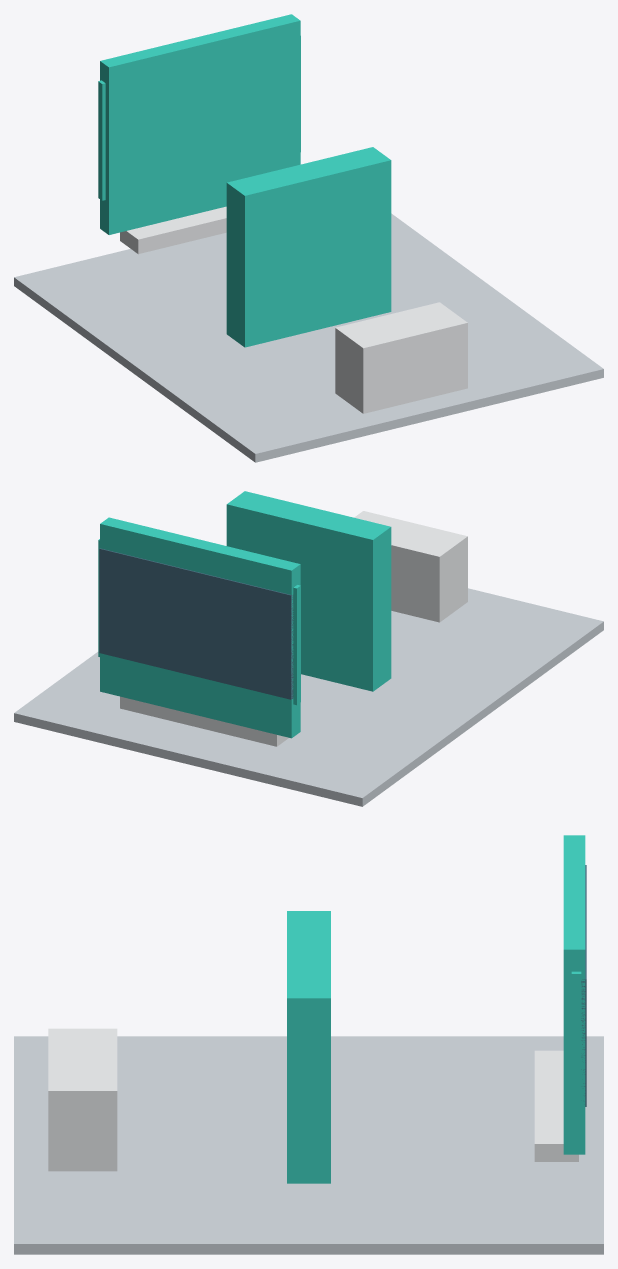
The picture shows the model from 3 angles, top to bottom: view 1: azimuth 30°, elevation 25°; view 2: azimuth 150°, elevation 25°; view 3: azimuth 270°, elevation 25°; orthographic projection. The views are drawn at different scales.
Visible parts, largest first — view 1: Exhibition Booth Concept; view 2: Exhibition Booth Concept; view 3: Exhibition Booth Concept.
Boxes of the visible parts, x1=… form: Exhibition Booth Concept: x1=14, y1=14, x2=603, y2=462; Exhibition Booth Concept: x1=14, y1=491, x2=603, y2=806; Exhibition Booth Concept: x1=14, y1=835, x2=603, y2=1254.
Bounding box in the file's own units: 5 × 2.9 × 6.
